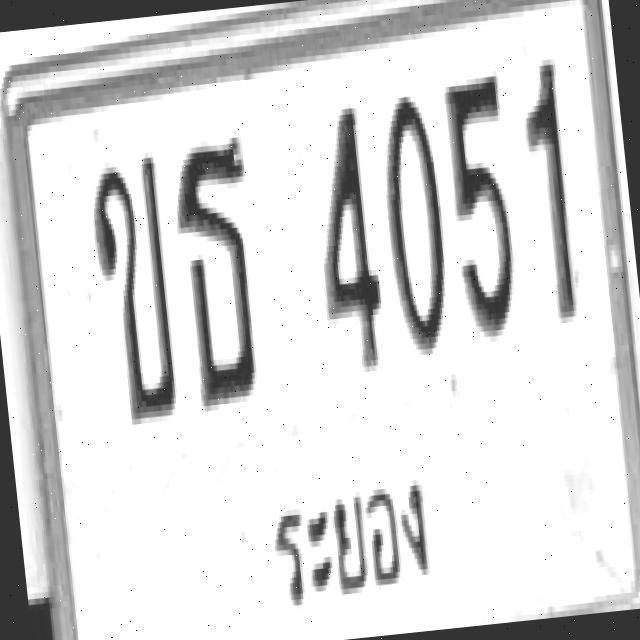0: (374, 88, 454, 356)
1: (517, 56, 581, 322)
11KhorKhai: (84, 152, 181, 426)
33ThorThong: (167, 130, 268, 407)
4: (304, 99, 388, 372)
5: (440, 70, 523, 338)
Rayong: (255, 458, 452, 625)
